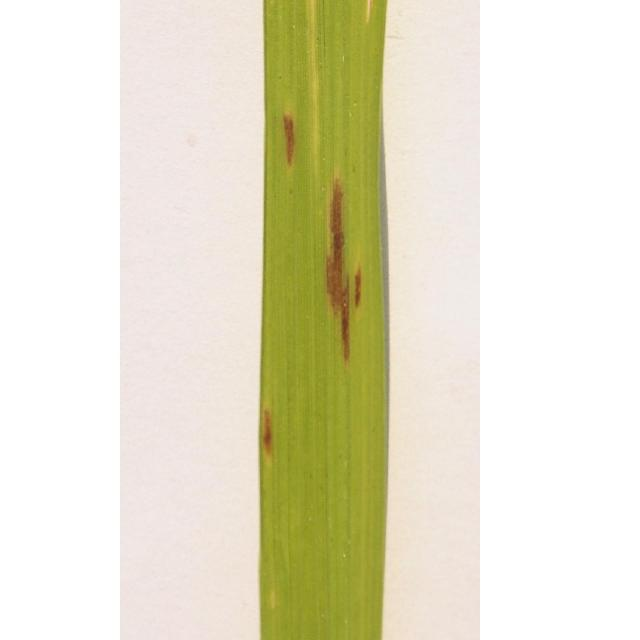Brown spot: (322, 177, 380, 366), (274, 97, 310, 177), (258, 406, 289, 462)
